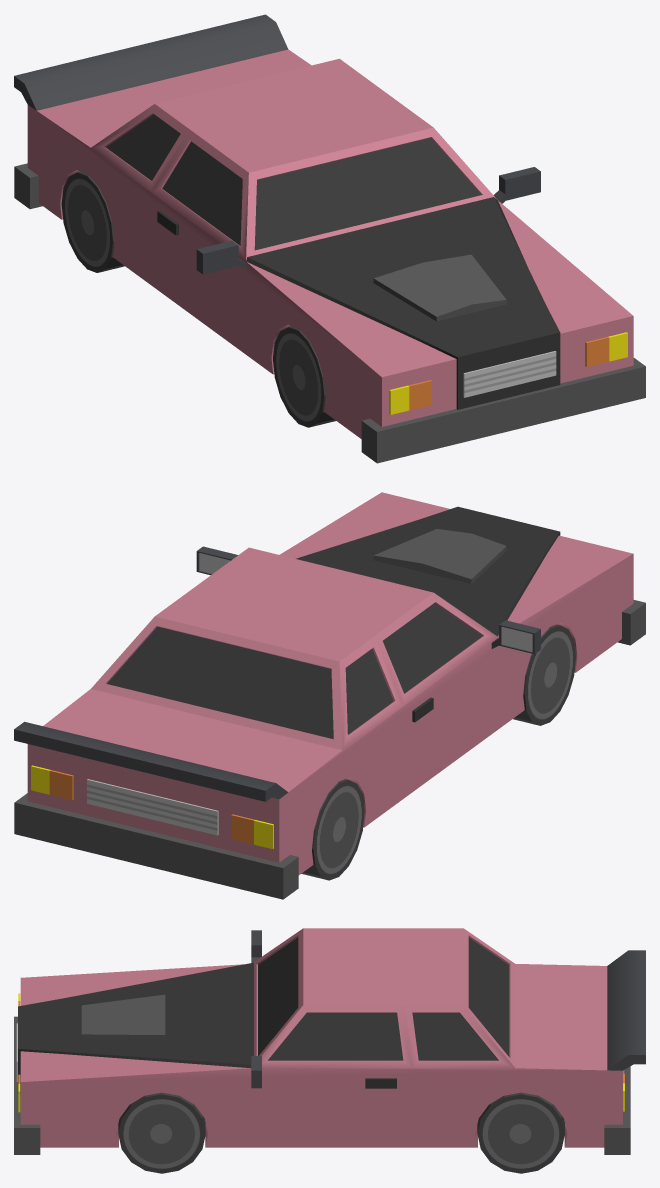
Rendered from sportsCar01_color03.fbx.
3 views of the same model, one above another, from view 1: azimuth 30°, elevation 25°; view 2: azimuth 150°, elevation 25°; view 3: azimuth 270°, elevation 25° (orthographic). The views are drawn at different scales.
Visible parts, largest first — view 1: Cube.474, Cube.475, Cube.478; view 2: Cube.474, Cube.478, Cube.475; view 3: Cube.474, Cube.476, Cube.477.
Part boxes in pixels (x1,y1,x2,y2): Cube.474: (14, 14, 645, 463); Cube.475: (273, 326, 335, 427); Cube.478: (61, 171, 124, 272); Cube.474: (14, 492, 645, 899); Cube.478: (301, 779, 364, 880); Cube.475: (513, 624, 575, 725); Cube.474: (14, 928, 645, 1154); Cube.476: (477, 1092, 564, 1173); Cube.477: (118, 1092, 205, 1173).
Bounding box in the file's own units: 269 × 138 × 512.
